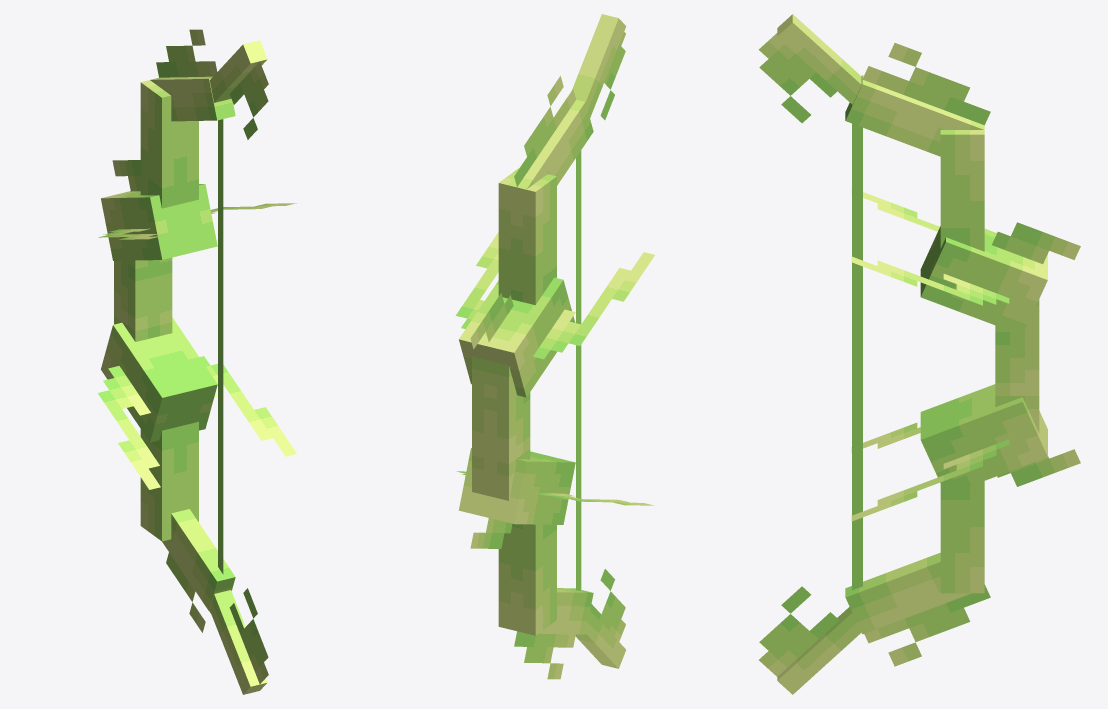
The model's file is archer_bow_spirit_3.gltf.
3 renders of one model, left to right at view 1: azimuth 30°, elevation 25°; view 2: azimuth 150°, elevation 25°; view 3: azimuth 270°, elevation 25°, orthographic. The views are drawn at different scales.
Parts seen in each view (by area): view 1: cube (×17); view 2: cube (×18); view 3: cube (×20).
Boxes of the visible parts, x1,y1,x2,y2 form: cube (×17): [98, 29, 296, 694]; cube (×18): [455, 14, 654, 679]; cube (×20): [758, 14, 1080, 694].
Bounding box in the file's own units: 1.22 × 3.15 × 1.54.
1 material, 1 textured.
